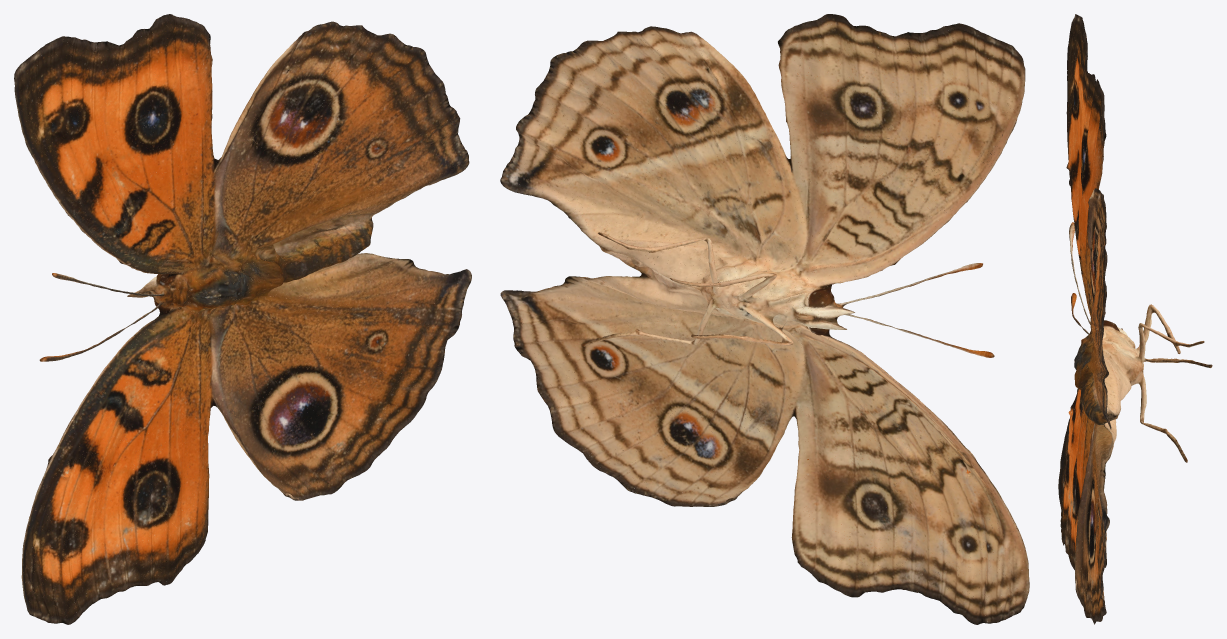
The model's file is papillon.glb.
The picture shows the model from 3 angles, left to right: view 1: azimuth 30°, elevation 25°; view 2: azimuth 150°, elevation 25°; view 3: azimuth 270°, elevation 25°; orthographic projection. The views are drawn at different scales.
Visible parts, largest first — view 1: QS1462-W23-1-1_1; view 2: QS1462-W23-1-1_1; view 3: QS1462-W23-1-1_1.
Boxes of the visible parts, x1=… form: QS1462-W23-1-1_1: x1=14, y1=14, x2=471, y2=624; QS1462-W23-1-1_1: x1=500, y1=14, x2=1029, y2=624; QS1462-W23-1-1_1: x1=1058, y1=14, x2=1212, y2=624.
Bounding box in the file's own units: 0.0514 × 0.0594 × 0.0158.
1 material, 1 textured.
